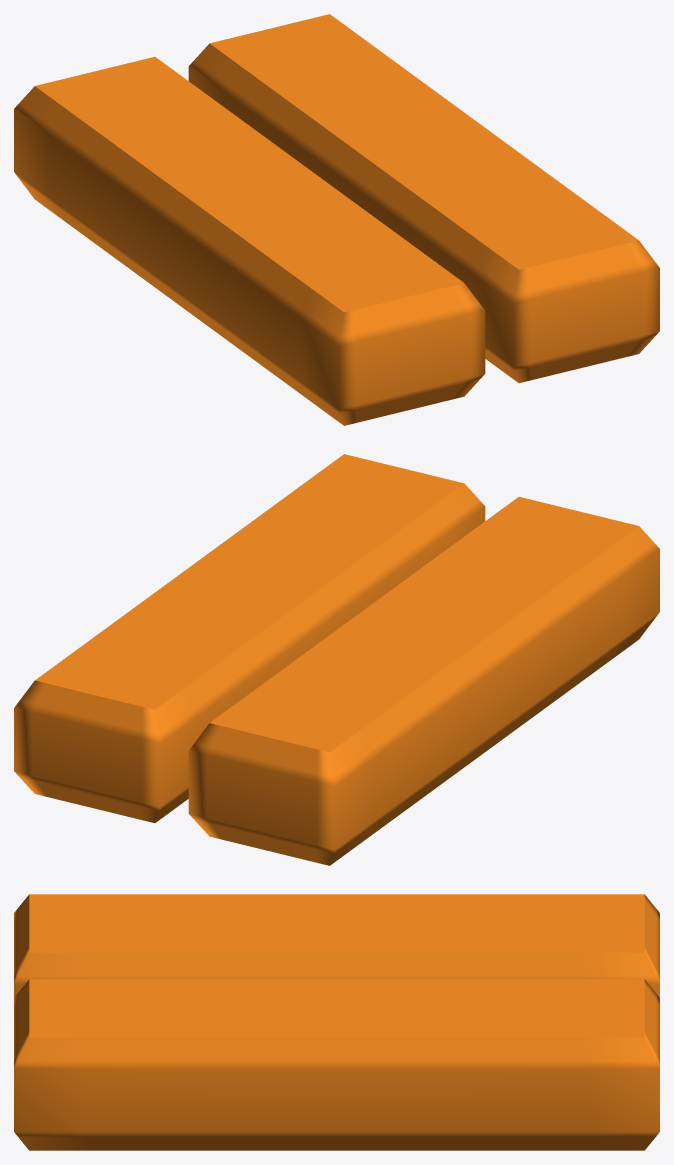
Rendered from sign_stop.fbx.
The picture shows the model from 3 angles, top to bottom: view 1: azimuth 30°, elevation 25°; view 2: azimuth 150°, elevation 25°; view 3: azimuth 270°, elevation 25°; orthographic projection.
Visible parts, largest first — view 1: polySurface29; view 2: polySurface29; view 3: polySurface29.
Part boxes in pixels (bbox=[...]): polySurface29: bbox=[14, 14, 659, 425]; polySurface29: bbox=[14, 454, 659, 865]; polySurface29: bbox=[14, 894, 659, 1150].
Size of the model in its own units: 0.3273 by 0.1105 by 0.5726.
Materials: 1 (1 with a texture image).
